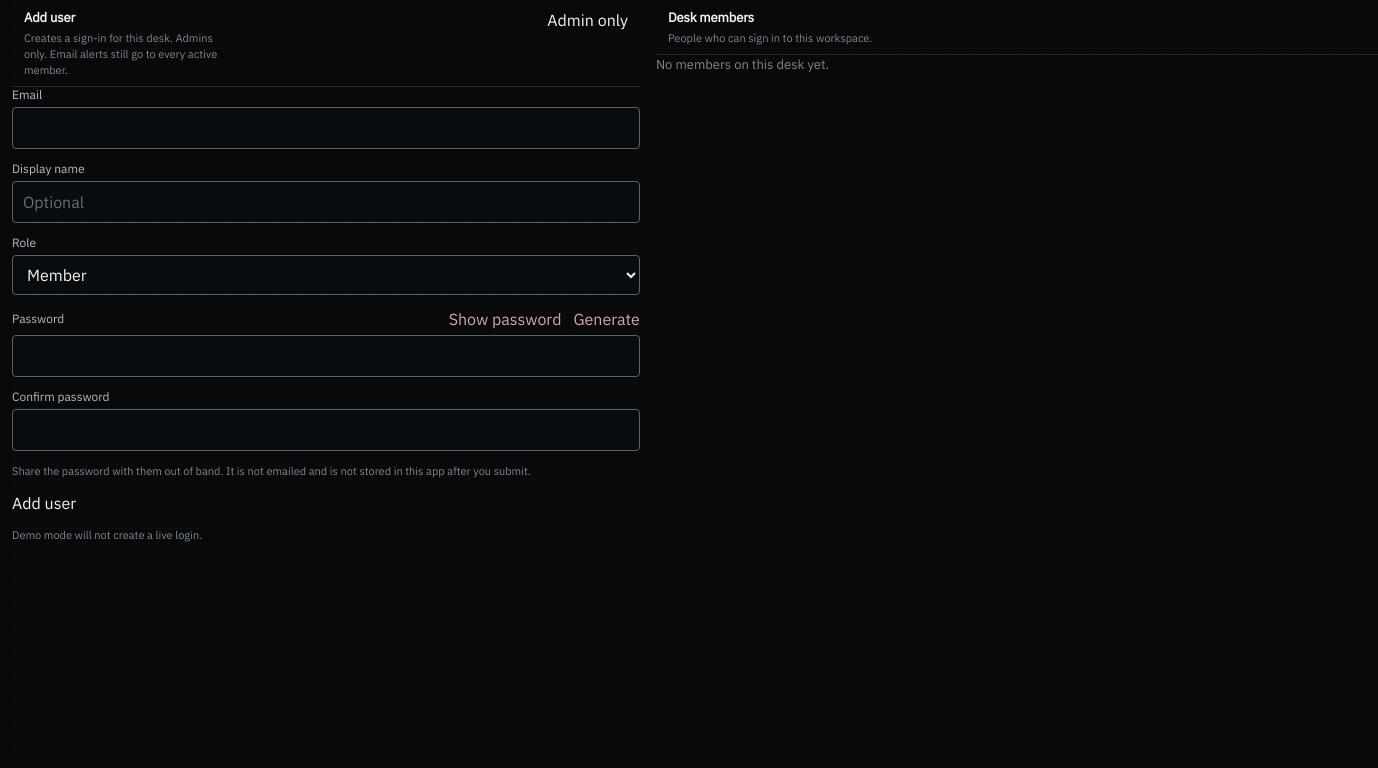
it: TeamAccessPanel › does not fetch when confirm does not match and keeps password inputs masked
The width and height of the screenshot is (1378, 768).
Type "new@demo.local" into the field labelled "Email" at coordinates (326, 128), box [12,106,640,148]
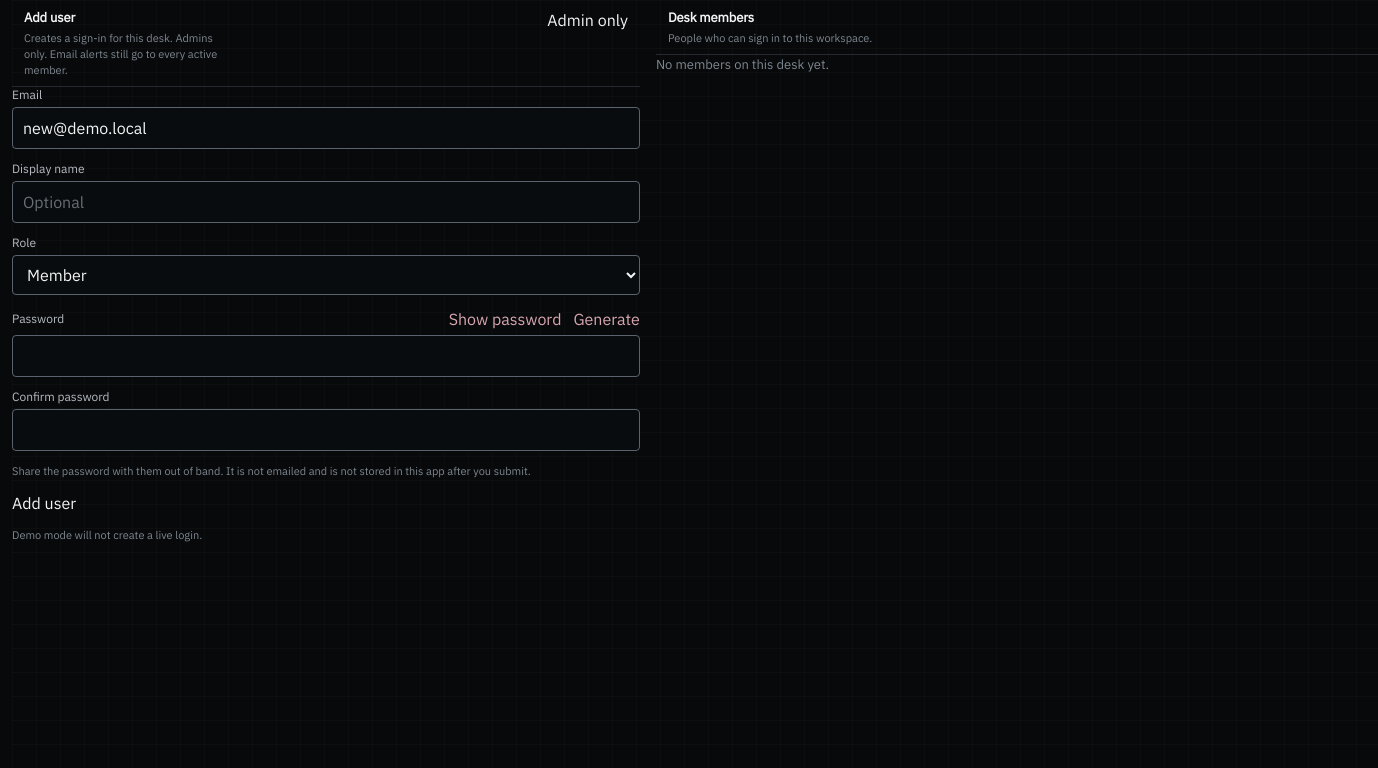
Type "desk-pass-1" into the password field labelled "Password" at coordinates (326, 356), box [12,334,640,376]
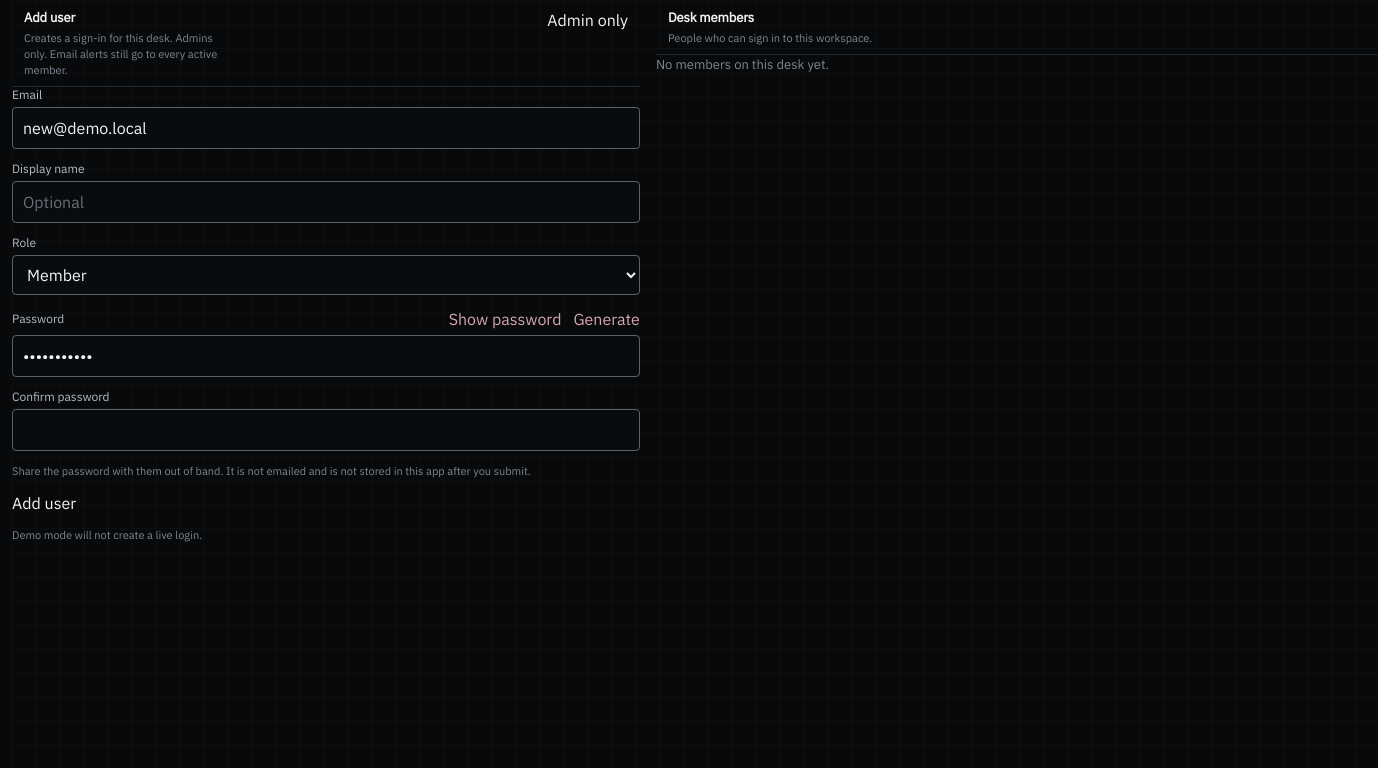
Type "desk-pass-2" into the password field labelled "Confirm password" at coordinates (326, 430), box [12,408,640,450]
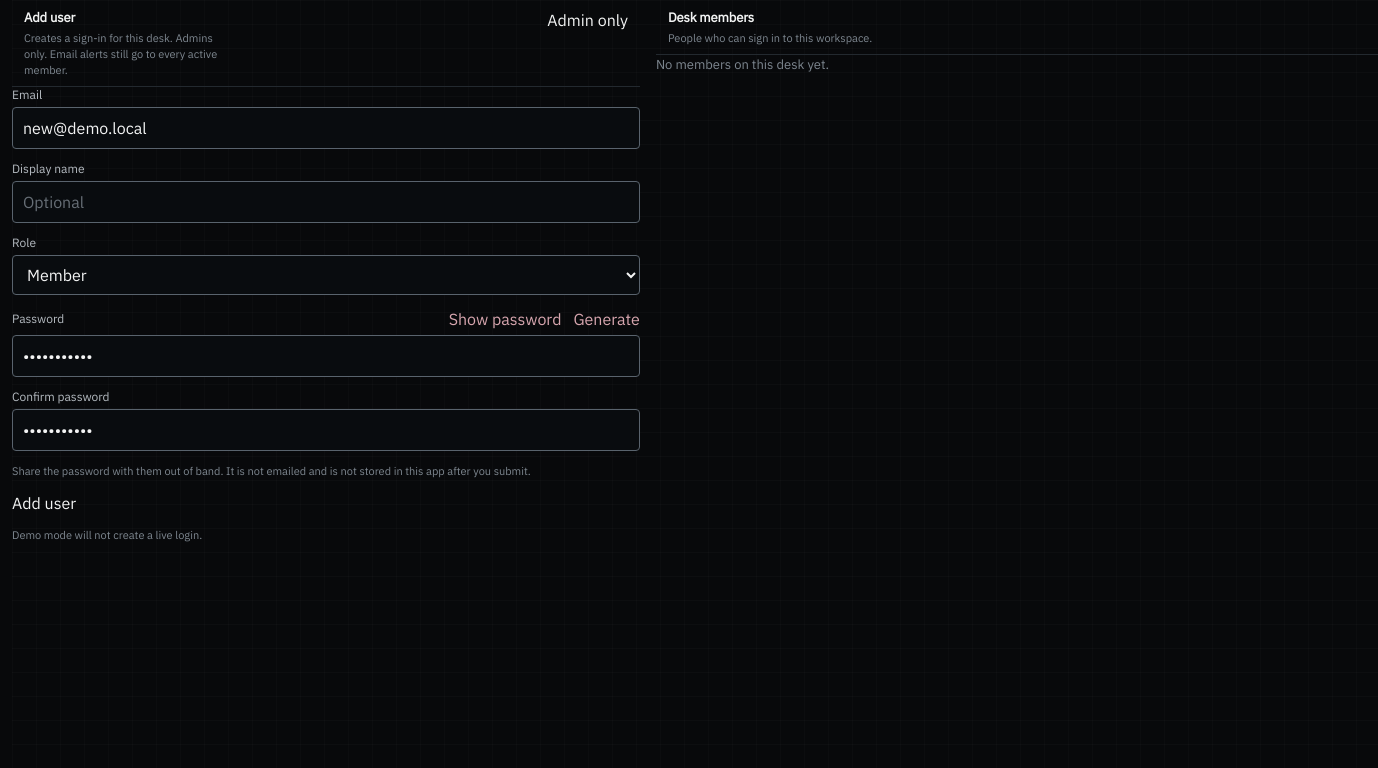
Submit the form named "Add user", box [12,86,640,543]
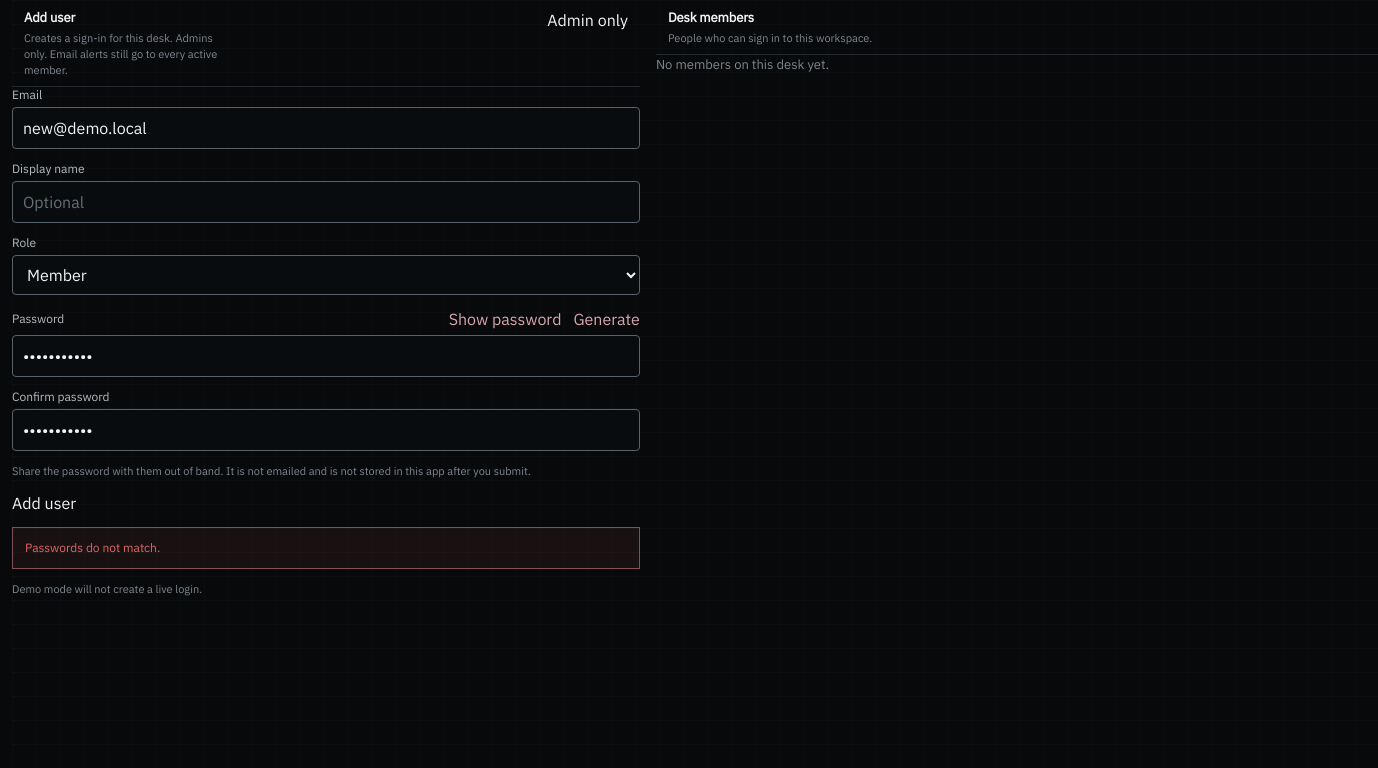
Check: the message shows "Passwords do not match", box [25,540,160,554]
Click the button "Show password" at coordinates (505, 318), box [449,306,561,330]
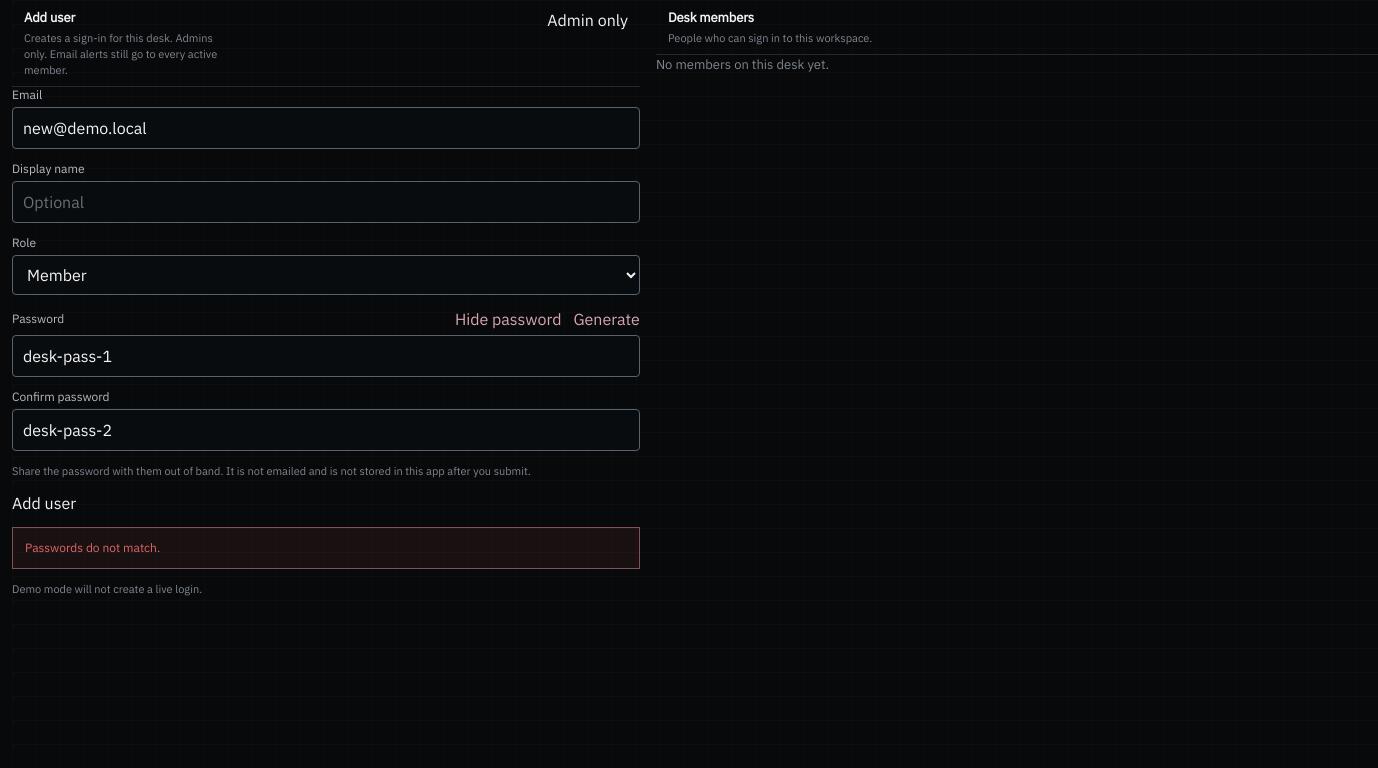
Check: the field labelled "Password" shows its text, box [12,334,640,376]
